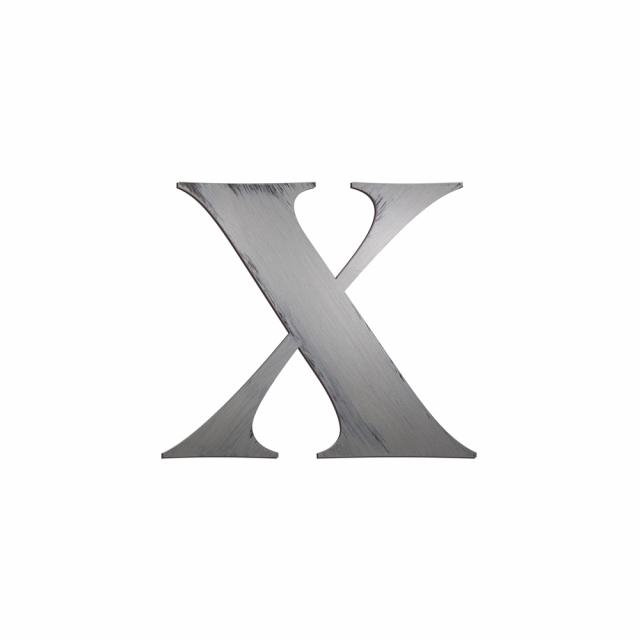X: (105, 124, 531, 520)
